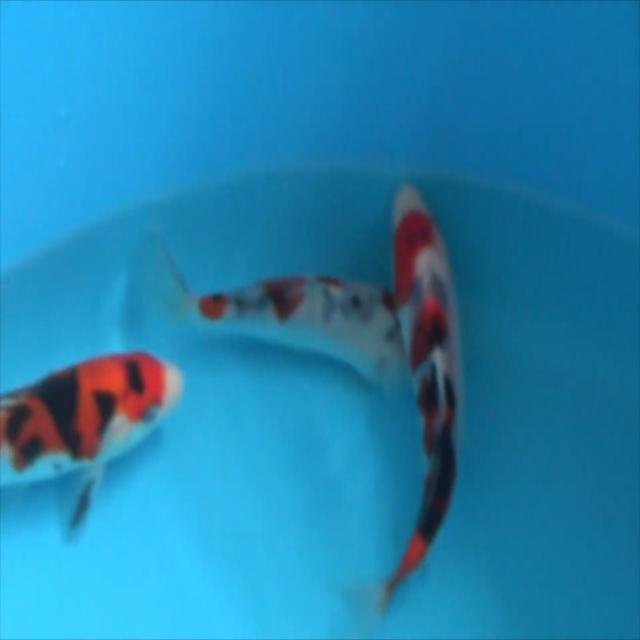Sanke: (138, 181, 462, 436), (377, 181, 462, 614), (0, 348, 184, 533)
